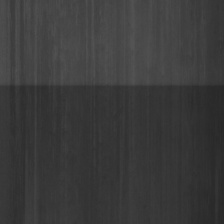welding_line: (0, 76, 224, 97)
